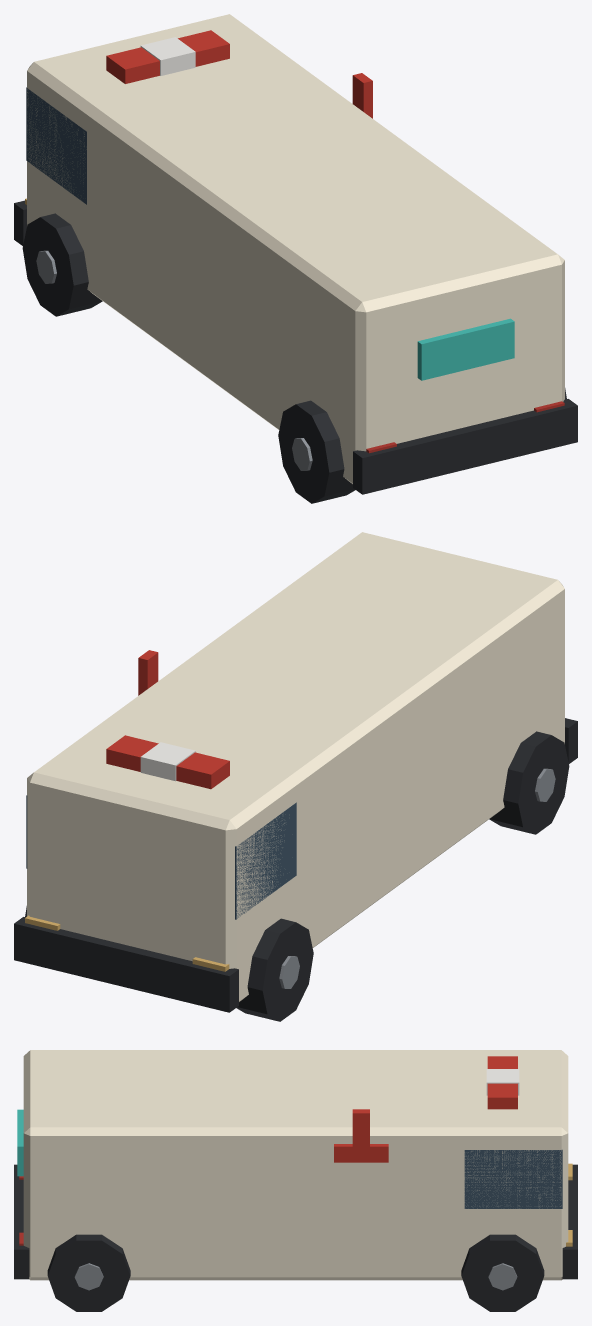
The model's file is vehicle.ambulance.glb.
The picture shows the model from 3 angles, top to bottom: view 1: azimuth 30°, elevation 25°; view 2: azimuth 150°, elevation 25°; view 3: azimuth 270°, elevation 25°; orthographic projection. The views are drawn at different scales.
Parts seen in each view (by area): view 1: vehicle.ambulance; view 2: vehicle.ambulance; view 3: vehicle.ambulance.
Boxes of the visible parts, box(x1,y1,x2,y2) form: vehicle.ambulance: box(14, 14, 577, 503); vehicle.ambulance: box(14, 532, 577, 1021); vehicle.ambulance: box(14, 1050, 577, 1311).
Size of the model in its own units: 2.11 by 1.98 by 5.18.
